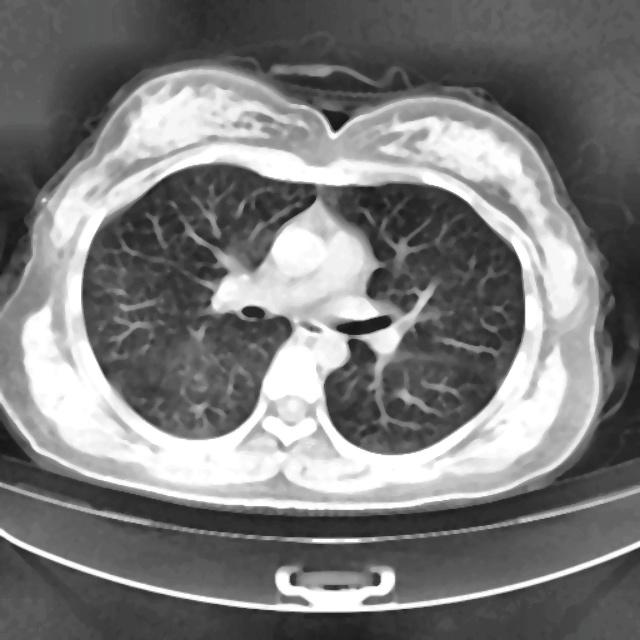covid: (1, 57, 617, 517)
